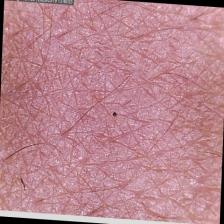Normal: (2, 6, 204, 211)
